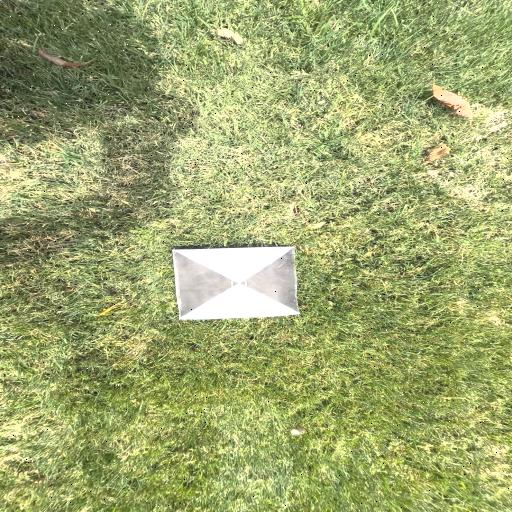target: (172, 247, 300, 319)
